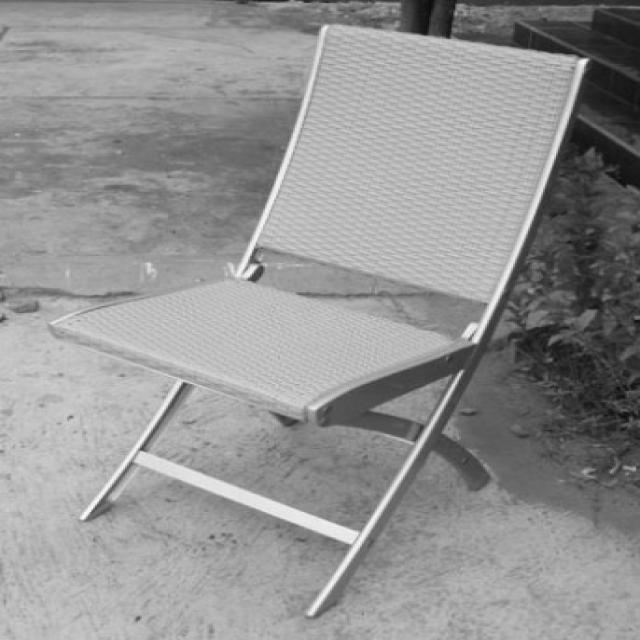chair: (47, 21, 593, 620)
